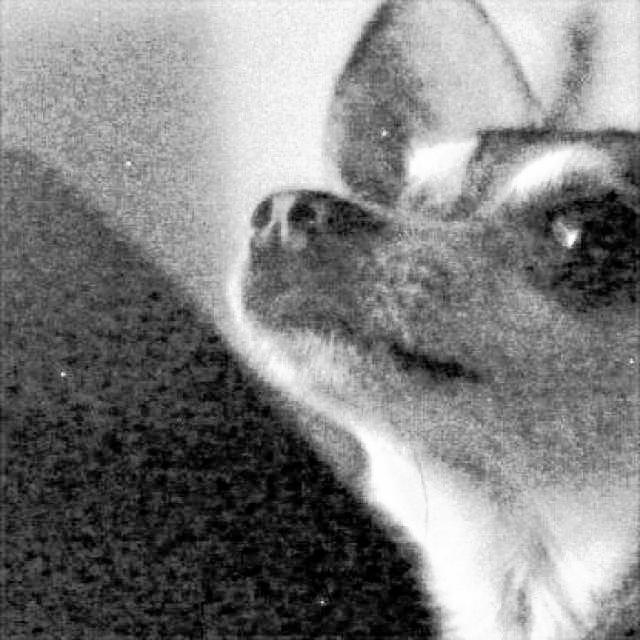Dog: (223, 0, 640, 637)
